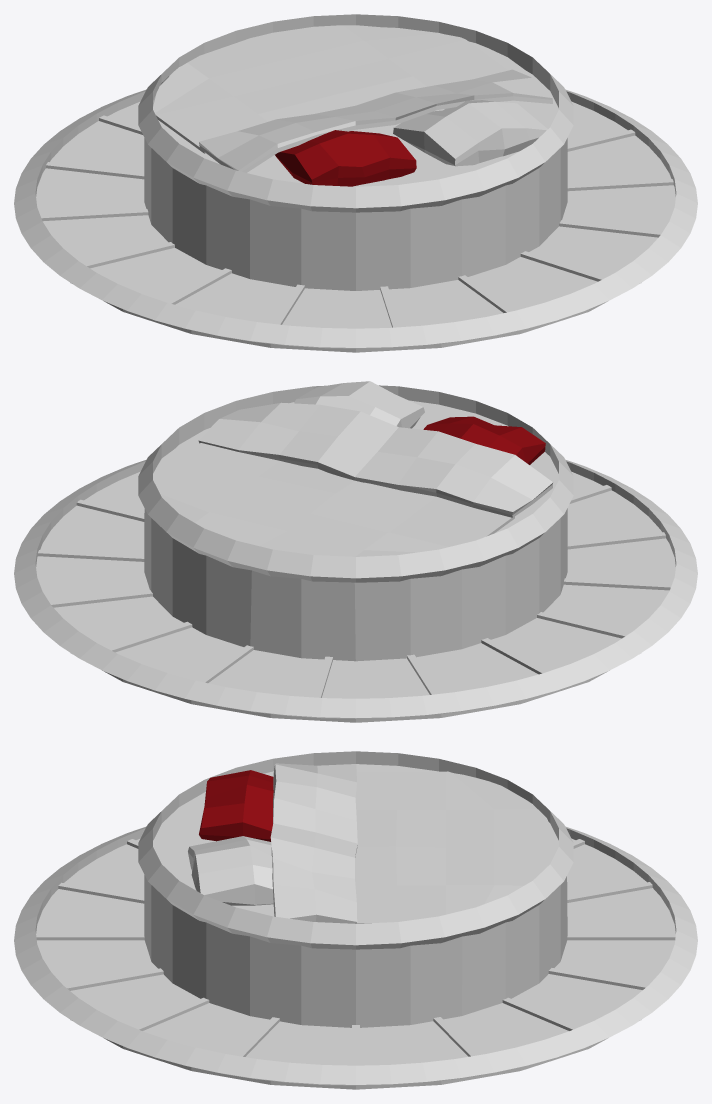
Rendered from roulette_bed.fbx.
3 views of the same model, one above another, from view 1: azimuth 30°, elevation 25°; view 2: azimuth 150°, elevation 25°; view 3: azimuth 270°, elevation 25° (orthographic).
Parts seen in each view (by area): view 1: Cylinder, Cylinder.001, Torus, Torus.001, Cube.002, Cube, Cube.001; view 2: Cylinder, Cylinder.001, Torus, Cube.002, Torus.001, Cube, Cube.001; view 3: Cylinder, Cylinder.001, Torus, Torus.001, Cube.002, Cube, Cube.001.
Part boxes in pixels (<box>): Cylinder: <box>144,25,567,290</box>; Cylinder.001: <box>36,101,675,352</box>; Torus: <box>14,89,697,348</box>; Torus.001: <box>138,14,573,212</box>; Cube.002: <box>199,69,552,172</box>; Cube: <box>393,100,547,166</box>; Cube.001: <box>275,130,416,186</box>; Cylinder: <box>144,400,567,661</box>; Cylinder.001: <box>36,471,675,722</box>; Torus: <box>14,459,697,718</box>; Cube.002: <box>198,402,552,517</box>; Torus.001: <box>138,385,573,582</box>; Cube: <box>294,381,424,428</box>; Cube.001: <box>423,416,545,464</box>; Cylinder: <box>144,764,567,1027</box>; Cylinder.001: <box>36,838,675,1089</box>; Torus: <box>14,826,697,1085</box>; Torus.001: <box>138,751,573,949</box>; Cube.002: <box>270,763,357,923</box>; Cube: <box>188,836,273,905</box>; Cube.001: <box>199,770,273,841</box>.
Size of the model in its own units: 1256 by 274 by 1256.
